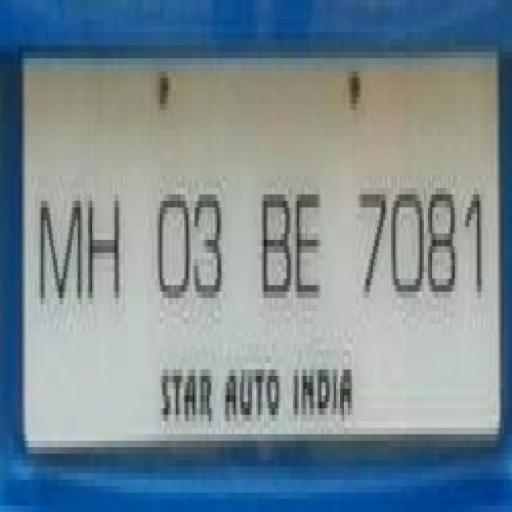number plate: (0, 38, 487, 454)
